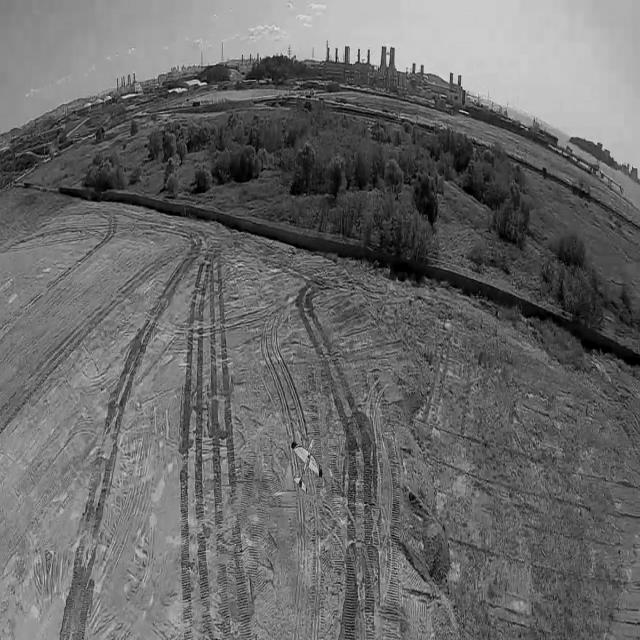iha: (283, 465, 337, 472)
